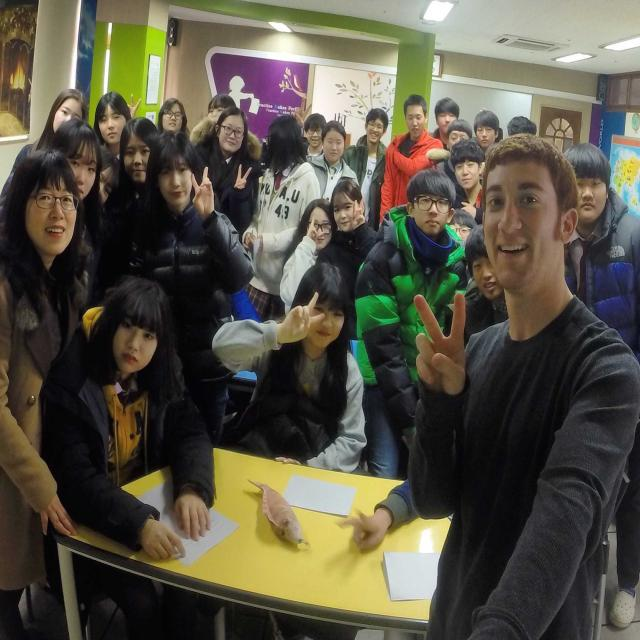body: (402, 128, 640, 640), (36, 272, 220, 640), (0, 144, 98, 640), (560, 140, 640, 630), (135, 130, 255, 452), (352, 167, 469, 481), (210, 260, 368, 474), (241, 114, 323, 324), (0, 86, 89, 223), (343, 471, 454, 561), (102, 115, 160, 279), (379, 92, 446, 225), (314, 176, 380, 302), (278, 197, 339, 318), (54, 117, 106, 254), (342, 107, 389, 233), (463, 221, 510, 328), (305, 120, 359, 203), (448, 138, 486, 225), (126, 92, 189, 141), (92, 91, 134, 162), (434, 118, 475, 187), (427, 96, 460, 151), (300, 112, 328, 163), (446, 205, 478, 245), (473, 109, 500, 156), (207, 92, 236, 134), (503, 110, 540, 142)
